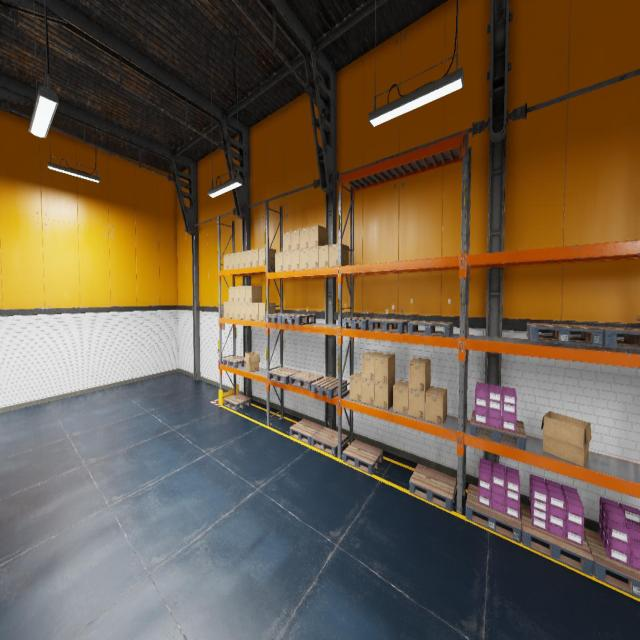box: (541, 411, 591, 467), (425, 386, 447, 425), (408, 386, 430, 421), (409, 357, 430, 392), (374, 353, 395, 384), (374, 378, 395, 409), (362, 351, 382, 381), (393, 380, 408, 415), (308, 225, 328, 248), (329, 244, 349, 266), (258, 247, 276, 266), (350, 372, 361, 402), (362, 379, 374, 406), (258, 302, 276, 320), (244, 352, 260, 372), (245, 286, 262, 302), (318, 245, 329, 268), (252, 302, 265, 320), (309, 246, 318, 268), (300, 227, 308, 249), (300, 248, 308, 269), (291, 229, 299, 250), (282, 231, 290, 252), (291, 250, 299, 270), (283, 250, 291, 270), (275, 252, 283, 271), (252, 248, 258, 266), (246, 250, 252, 268), (246, 303, 252, 319), (228, 286, 234, 302), (228, 253, 234, 269), (240, 251, 245, 268), (240, 303, 245, 319), (240, 286, 245, 302), (234, 286, 239, 302), (234, 252, 239, 268), (234, 303, 239, 318), (229, 303, 234, 318), (224, 302, 228, 318), (224, 254, 228, 270)
pallets: (520, 503, 594, 576), (584, 528, 640, 599), (466, 484, 522, 544), (409, 464, 457, 511), (470, 410, 526, 450), (526, 323, 604, 347), (343, 440, 383, 474), (592, 326, 640, 350), (311, 426, 348, 456), (290, 419, 324, 444), (311, 376, 347, 398), (407, 321, 453, 337), (289, 371, 324, 390), (369, 318, 412, 333), (268, 366, 300, 384), (342, 317, 380, 330), (224, 394, 251, 411), (282, 314, 316, 325), (266, 313, 294, 323), (222, 356, 245, 368)
